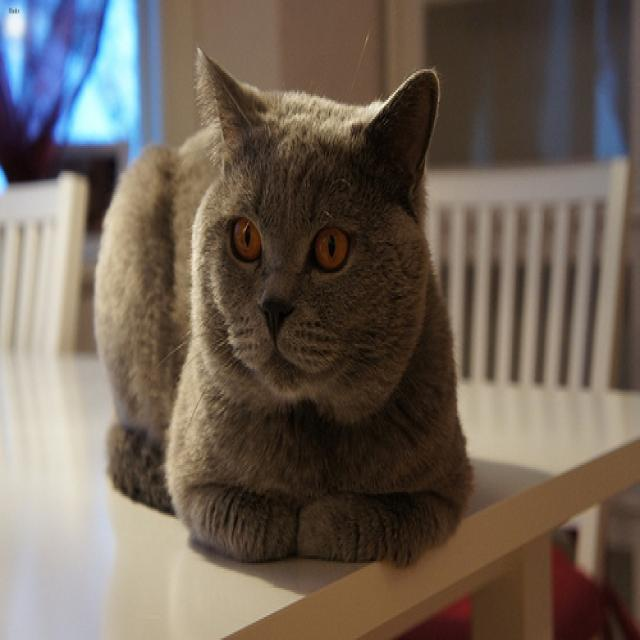British_Shorthair: (187, 42, 440, 427)
